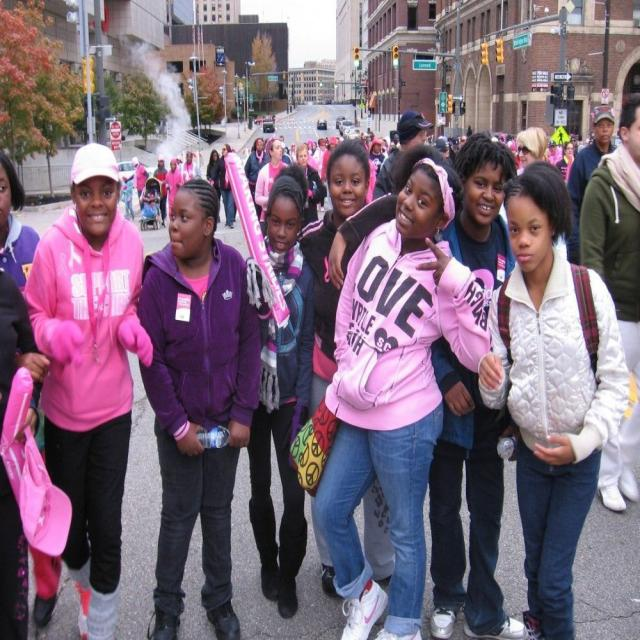body: (308, 140, 498, 639), (478, 159, 629, 640), (19, 138, 156, 639), (134, 175, 264, 639), (428, 131, 530, 640), (292, 137, 400, 600), (245, 165, 316, 620), (0, 147, 65, 639), (576, 88, 640, 516), (565, 102, 620, 267), (425, 122, 596, 165), (372, 108, 436, 202), (254, 136, 292, 224), (293, 143, 328, 226), (264, 132, 342, 162), (212, 143, 235, 230), (358, 112, 401, 154), (124, 154, 150, 213), (515, 125, 549, 169), (152, 154, 170, 230), (164, 156, 184, 222), (205, 148, 221, 224), (118, 174, 135, 221), (180, 150, 202, 183), (141, 181, 158, 220), (174, 152, 204, 170), (229, 145, 252, 162), (259, 111, 277, 124)
